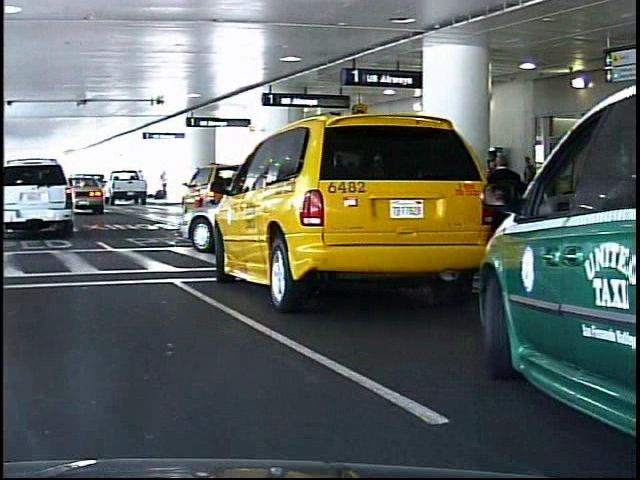person: (480, 149, 521, 288), (156, 170, 165, 199)
